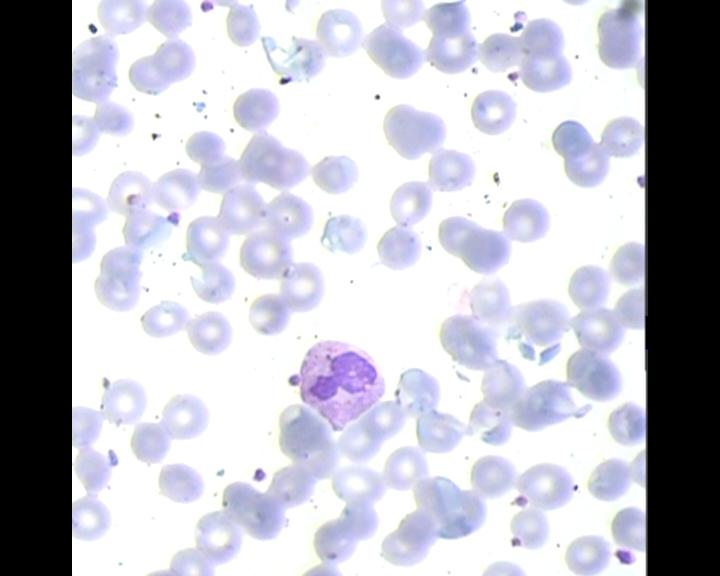neut: (295, 335, 388, 433)
